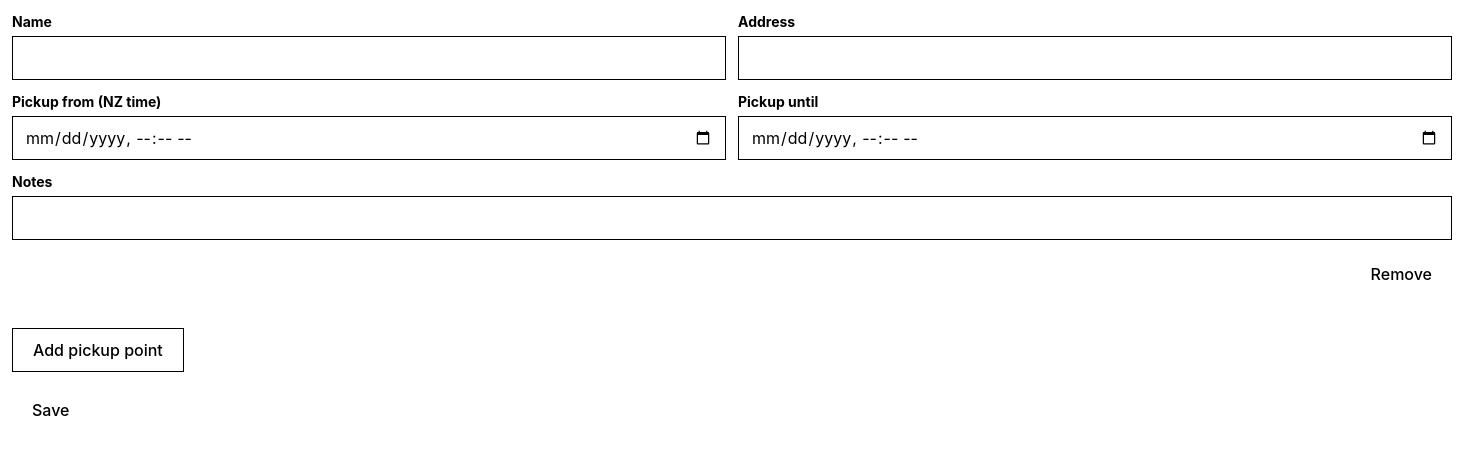
PickupPointsEditor › refuses a pickup time that does not exist in New Zealand
Type "Albany" into the field labelled "Name" at (369, 58), box [12,36,726,80]
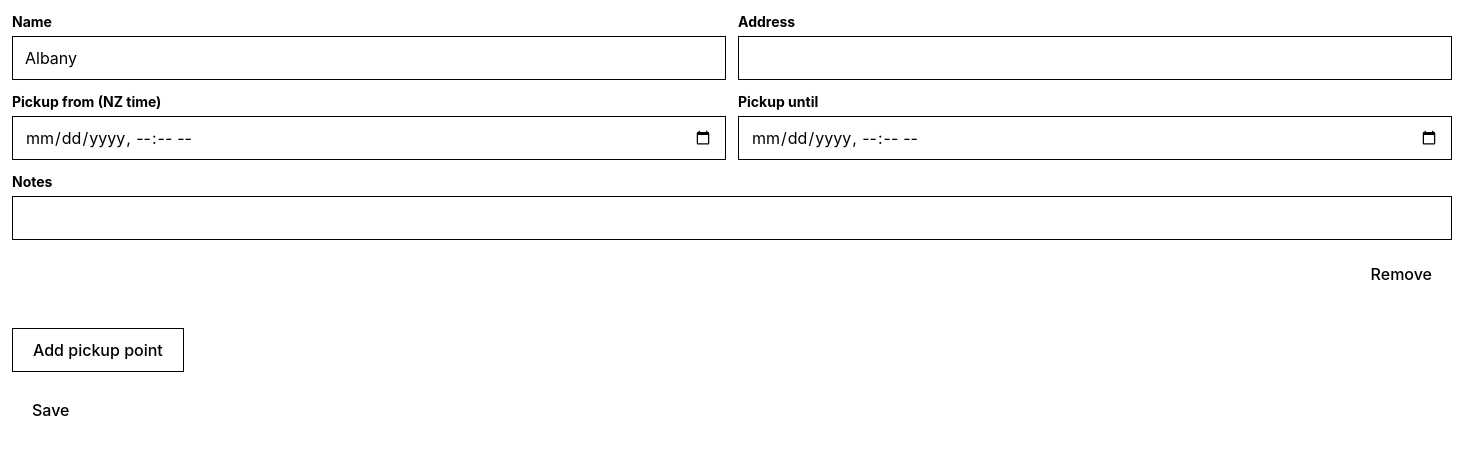
Type "1 Main St" into the field labelled "Address" at (1095, 58), box [738,36,1452,80]
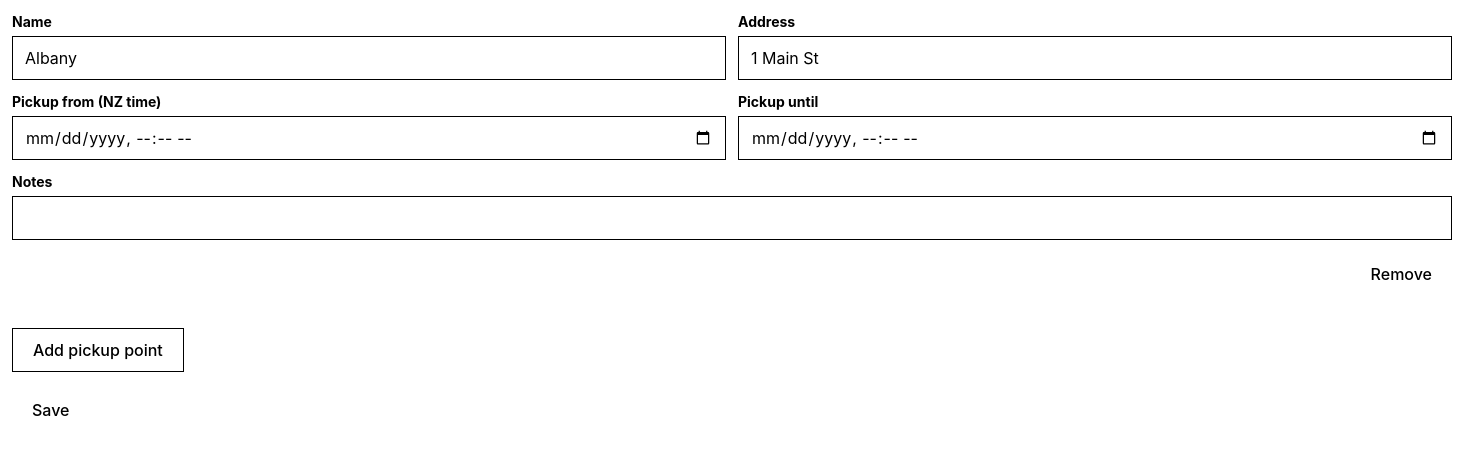
Type "2026-09-27T02:30" into the field labelled "Pickup from (NZ time)" at (369, 138), box [12,116,726,160]
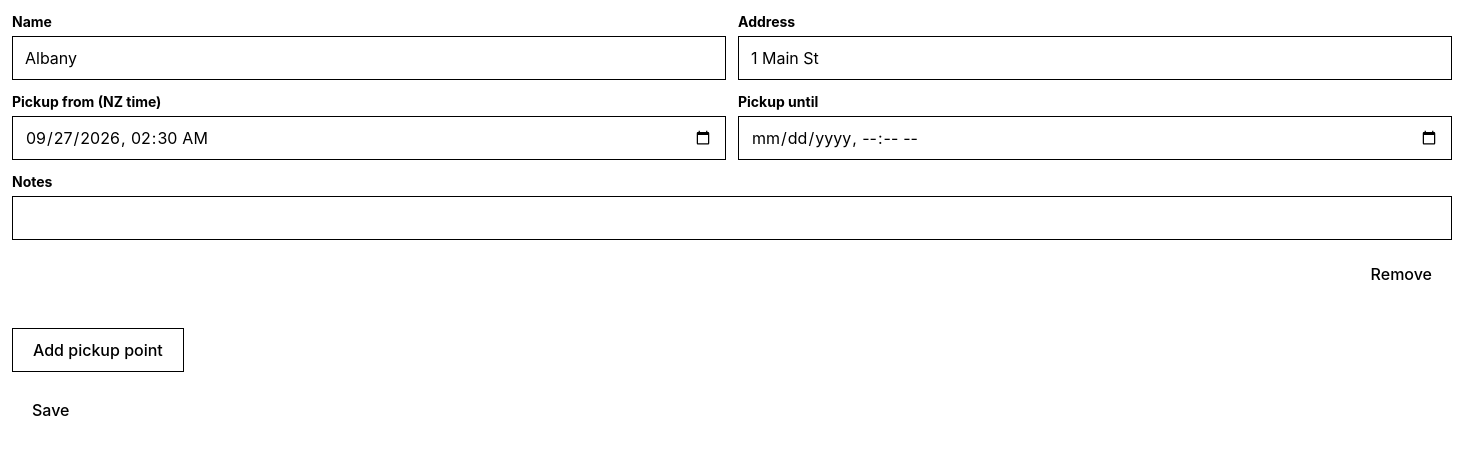
Click the button "Save" at (51, 410), box [12,388,90,432]
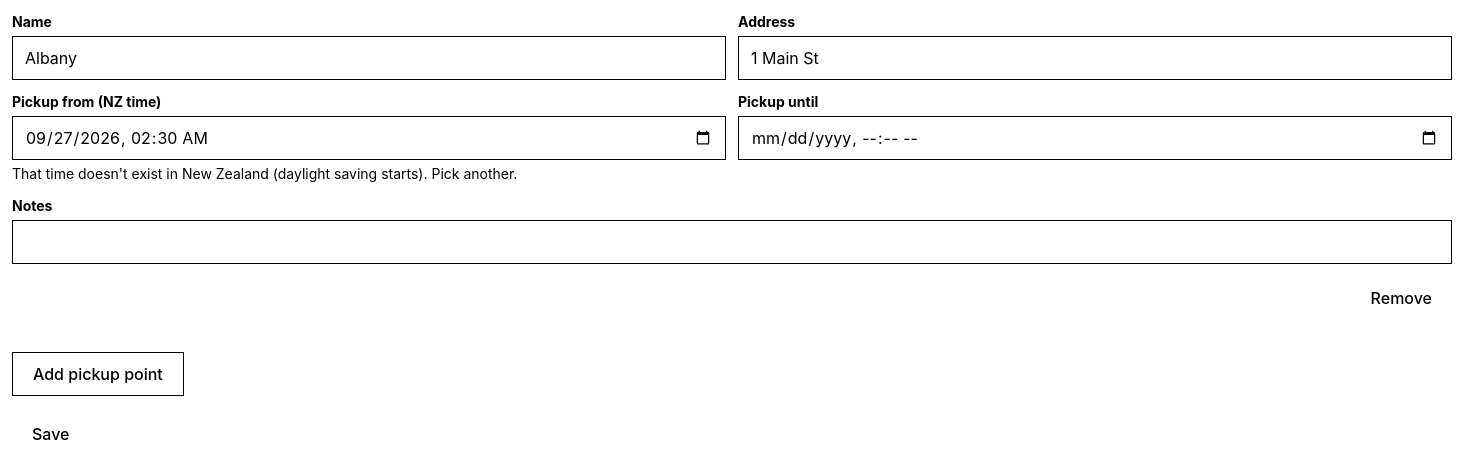
expect the text "That time doesn't exist in New Zealand (daylight saving starts). Pick another." is shown: met, box [12,165,517,182]
